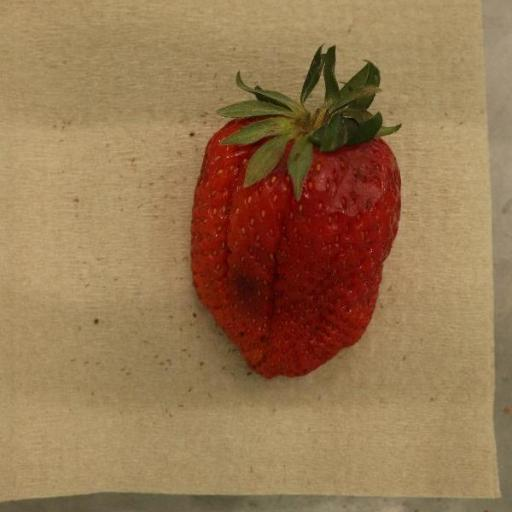Strawberry: (190, 45, 401, 381)
